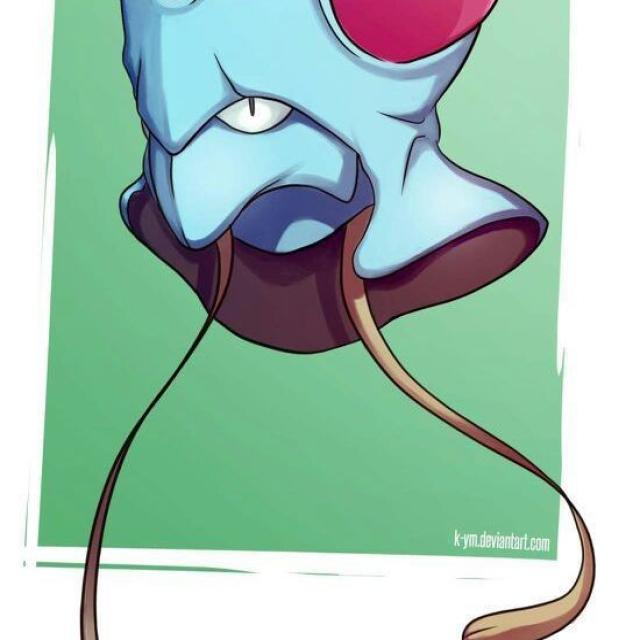Tentacool: (113, 0, 518, 395)
